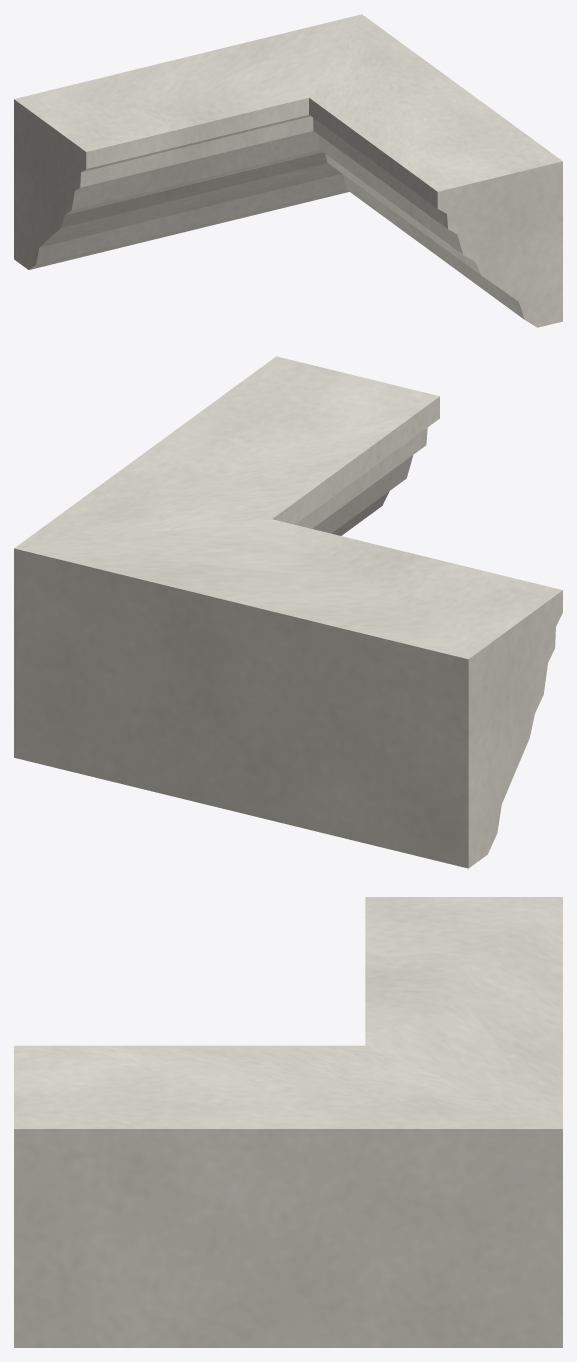
File: PZ_InteriorTrim_V11_Crown_OutsideCorner.glb
3 views of the same model, one above another, from view 1: azimuth 30°, elevation 25°; view 2: azimuth 150°, elevation 25°; view 3: azimuth 270°, elevation 25° (orthographic). The views are drawn at different scales.
Visible parts, largest first — view 1: V11_Crown_OutsideCorner__Crown_Miter90_ContinuousShell; view 2: V11_Crown_OutsideCorner__Crown_Miter90_ContinuousShell; view 3: V11_Crown_OutsideCorner__Crown_Miter90_ContinuousShell.
Boxes of the visible parts, bbox=[...] form: V11_Crown_OutsideCorner__Crown_Miter90_ContinuousShell: bbox=[14, 14, 562, 327]; V11_Crown_OutsideCorner__Crown_Miter90_ContinuousShell: bbox=[14, 356, 562, 868]; V11_Crown_OutsideCorner__Crown_Miter90_ContinuousShell: bbox=[14, 897, 562, 1347].
Bounding box in the file's own units: 0.3 × 0.132 × 0.3.
Materials: 1 (1 with a texture image).
